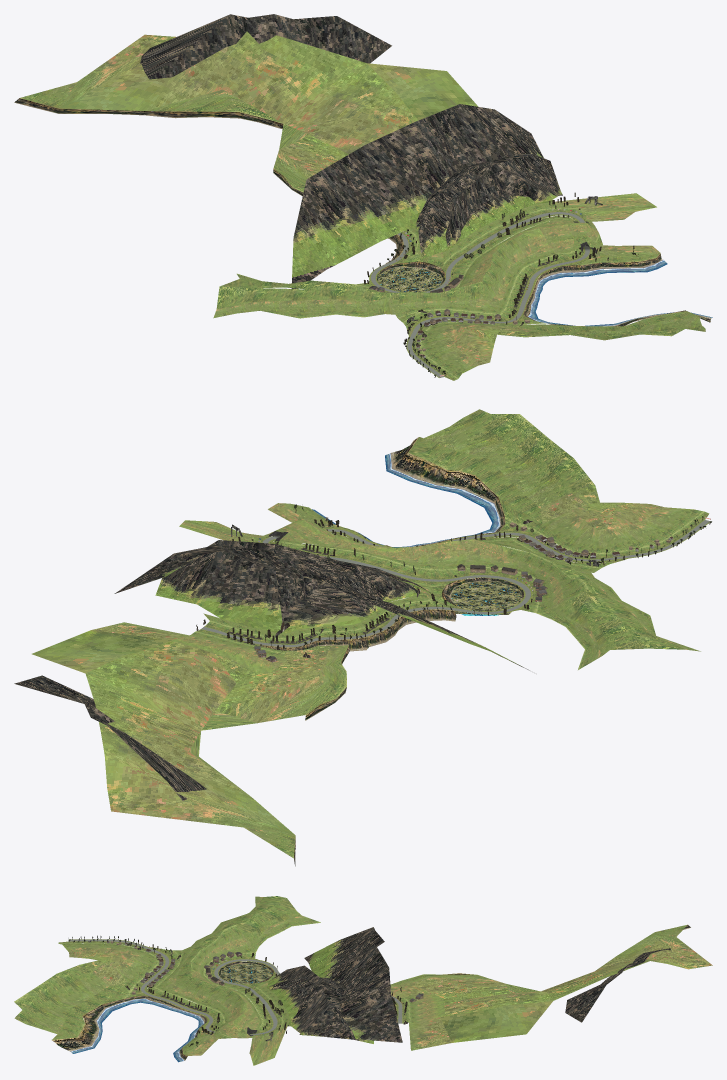
Rendered from stage-east-env.glb.
3 renders of one model, top to bottom at view 1: azimuth 30°, elevation 25°; view 2: azimuth 150°, elevation 25°; view 3: azimuth 270°, elevation 25°, orthographic. The views are drawn at different scales.
Visible parts, largest first — view 1: env part 1, env part 0, env part 2; view 2: env part 1, env part 2, env part 0; view 3: env part 1, env part 2, env part 0.
Part boxes in pixels (x1,y1,x2,y2): env part 1: (14, 14, 712, 380); env part 0: (369, 212, 591, 377); env part 2: (364, 192, 638, 377); env part 1: (14, 409, 709, 866); env part 2: (196, 504, 711, 662); env part 0: (200, 519, 710, 647); env part 1: (14, 896, 712, 1065); env part 2: (69, 935, 423, 1046); env part 0: (68, 939, 402, 1035).
Size of the model in its own units: 2474 by 518 by 4240.
Materials: 27 (25 with a texture image).
